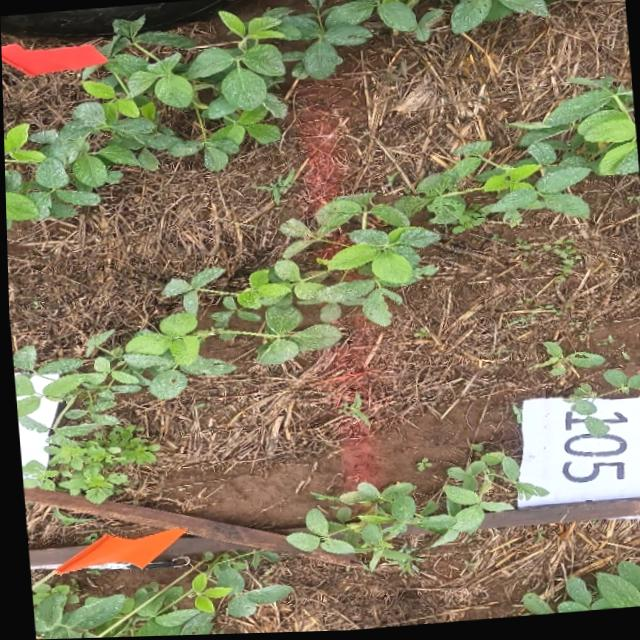caruru_weed: (19, 427, 155, 503), (512, 242, 579, 285)
grassy_weed: (252, 170, 293, 207), (336, 395, 366, 428)
soy_plant: (10, 83, 637, 472), (3, 0, 578, 229), (284, 448, 542, 574), (28, 553, 287, 640), (551, 565, 640, 617), (528, 345, 601, 380), (600, 372, 640, 397), (566, 387, 592, 419), (519, 596, 550, 619), (583, 421, 605, 439), (413, 460, 428, 474)
